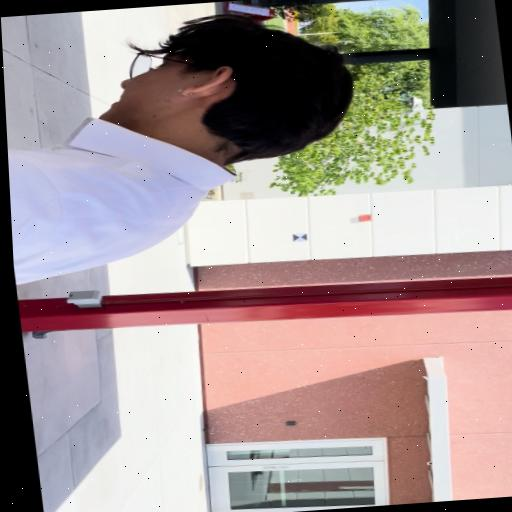target2: (292, 232, 309, 242)
